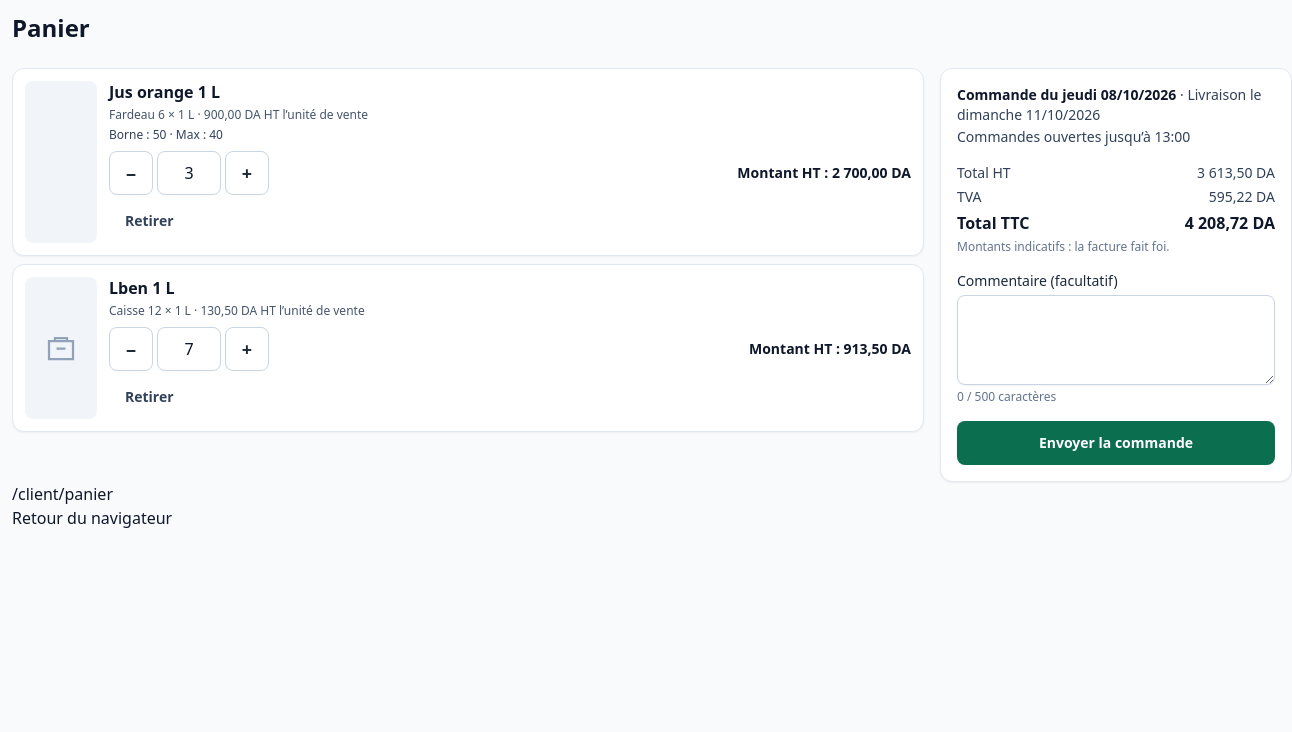
Test: cart (EF-CLT-03) › changes and removes lines, and keeps the comment on the device (500 characters at most)
The image size is (1292, 732).
Click the button named "Augmenter la quantité de Jus orange 1 L" at (247, 173), box [225,151,269,195]
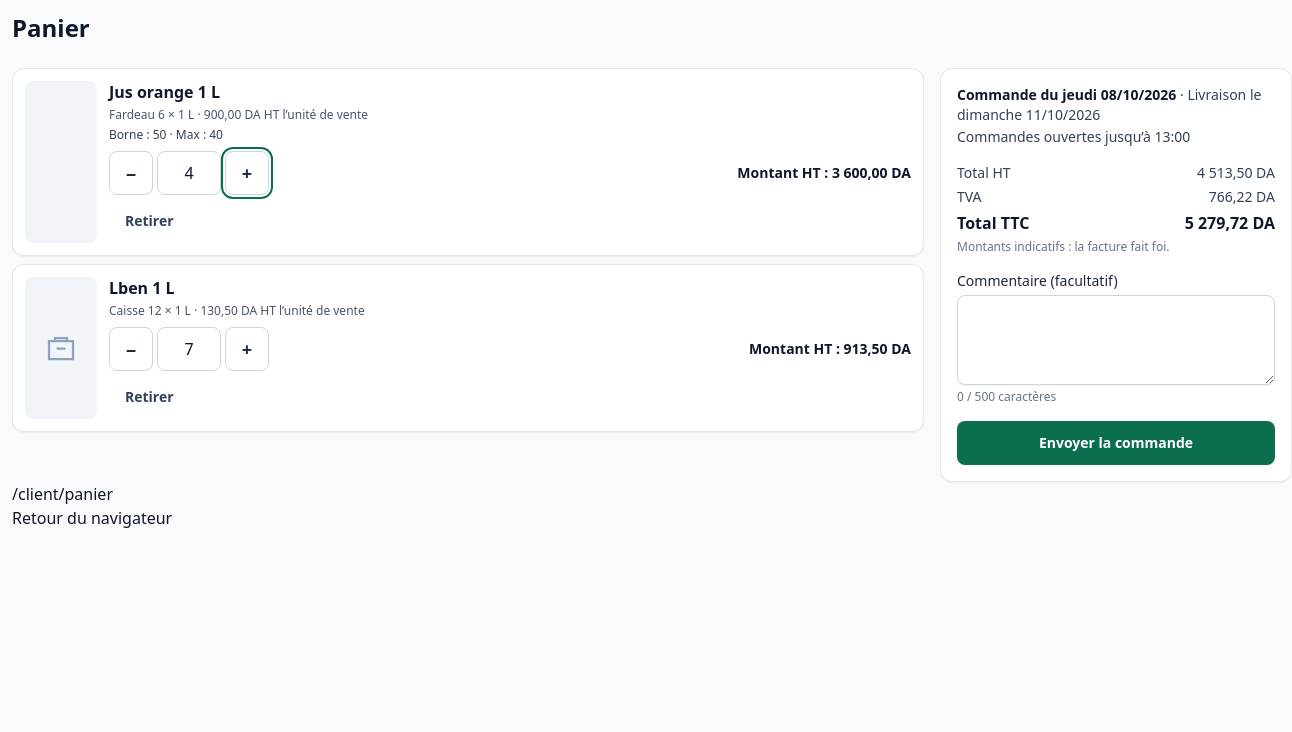
Click the button with aria-label "Retirer Lben 1 L du panier" at (149, 397), box [109,375,190,419]
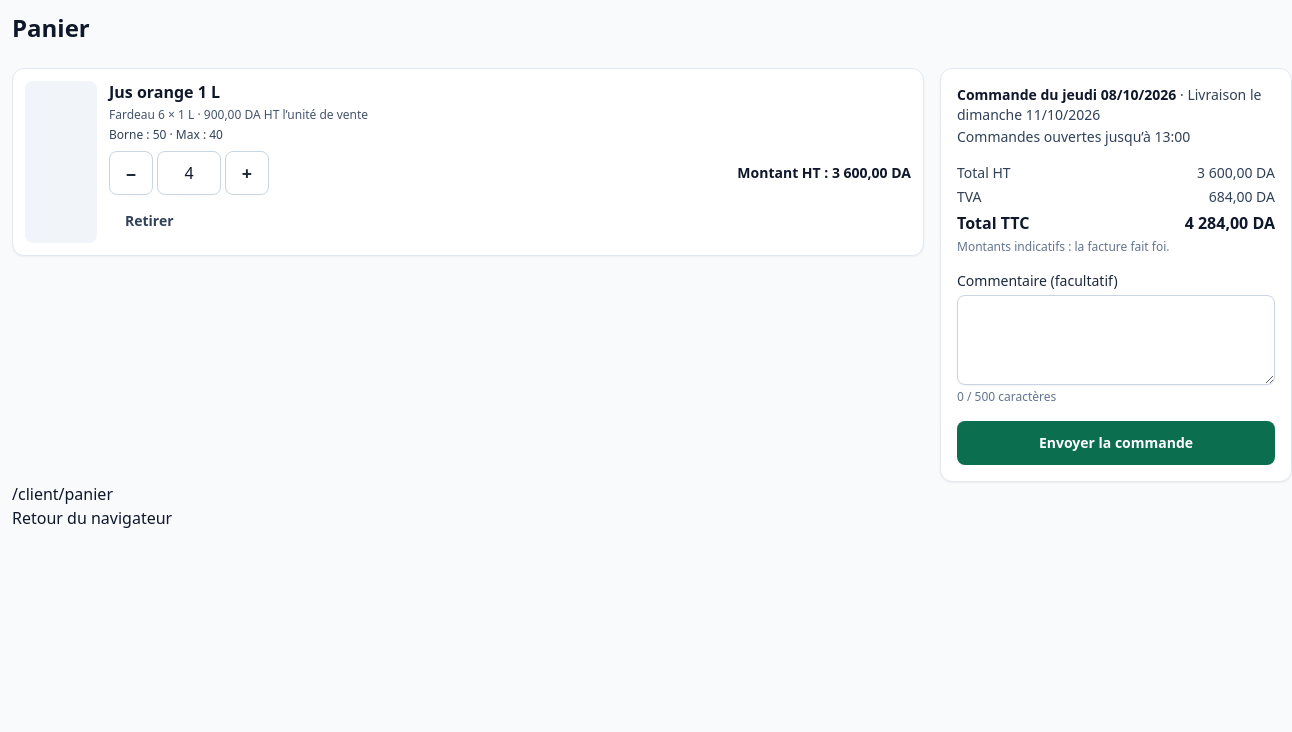
Result: the text "Lben 1 L" is gone
Type "Livrer avant 10 h" into the text box labelled "Commentaire (facultatif)" at (1116, 340), box [957,295,1275,385]
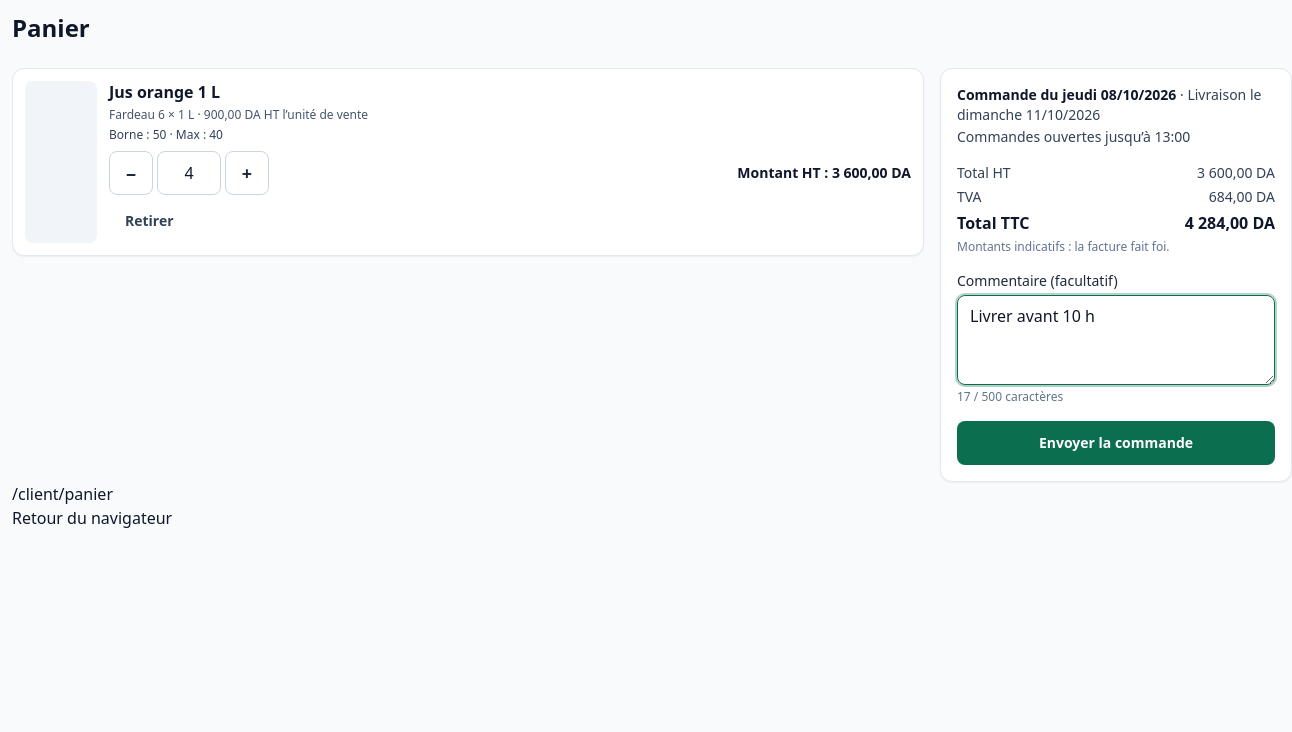
Result: the text "17 / 500 caractères" is shown at [957,388,1063,405]
